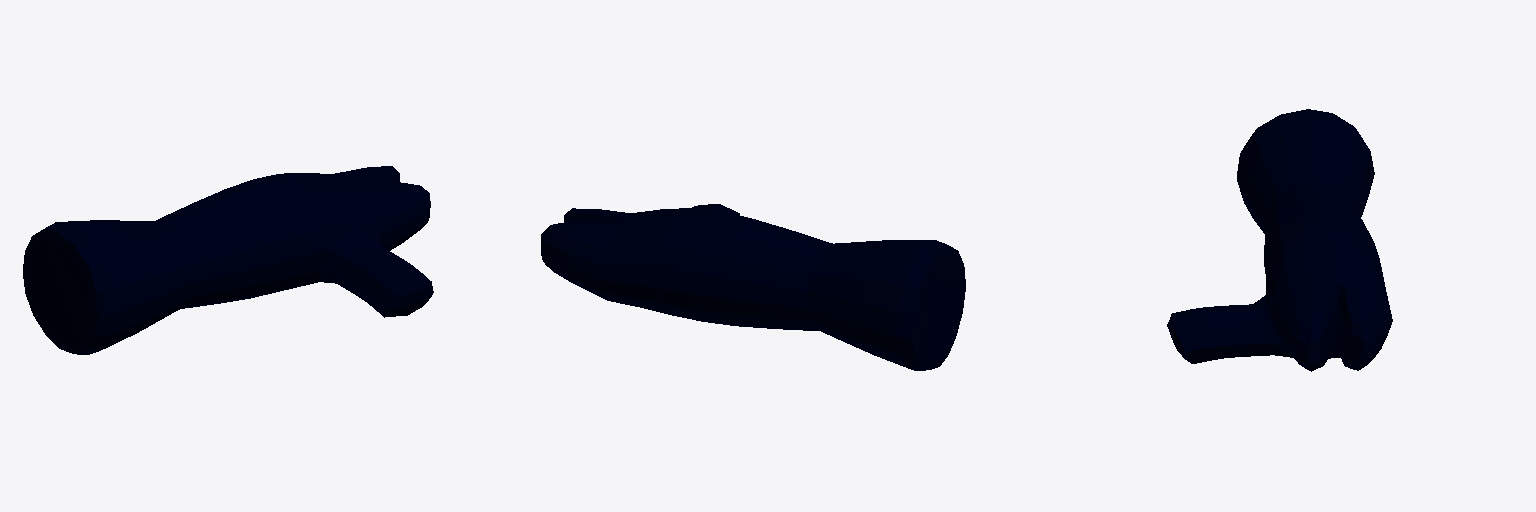
Rendered from L_hand.obj.
3 views of the same model, side by side, from view 1: azimuth 30°, elevation 25°; view 2: azimuth 150°, elevation 25°; view 3: azimuth 270°, elevation 25° (orthographic).
Visible parts, largest first — view 1: L_hand:Mesh; view 2: L_hand:Mesh; view 3: L_hand:Mesh.
Part boxes in pixels (bbox=[...]): L_hand:Mesh: bbox=[23, 166, 433, 354]; L_hand:Mesh: bbox=[541, 204, 965, 370]; L_hand:Mesh: bbox=[1167, 109, 1392, 371].
Bounding box in the file's own units: 1.05 × 0.3247 × 0.5421.